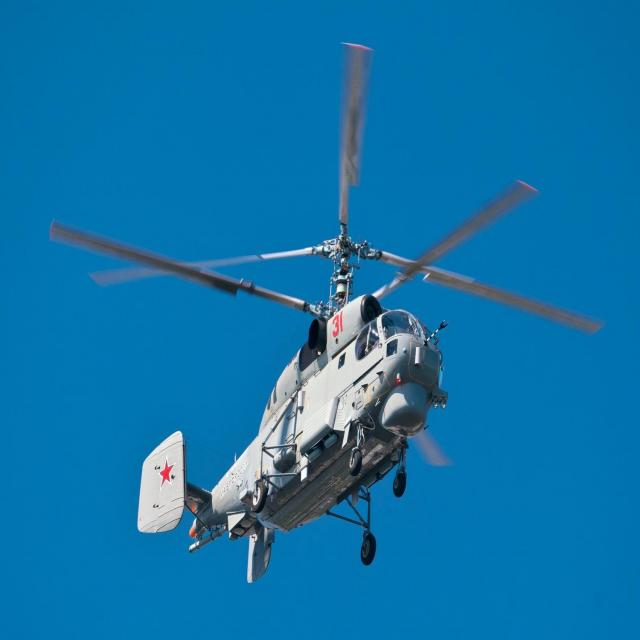MIL_HELO: (47, 40, 605, 580)
